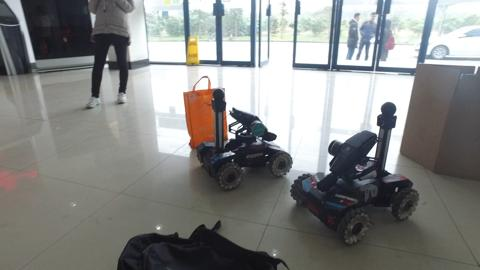chariot: (289, 101, 428, 245), (202, 92, 294, 193)
